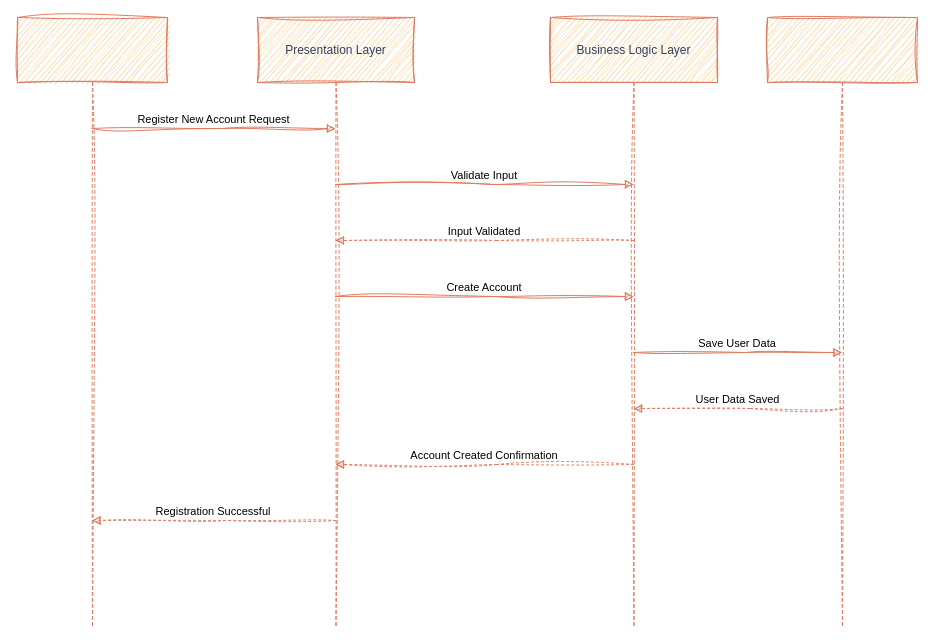
Image size: 935x643. Some labels were removed from this diagram. The box of each missing label's shape, as (x1, y1, x2, y2) in pixels:
Persistence Layer: (766, 16, 918, 626)
User: (16, 16, 168, 626)
